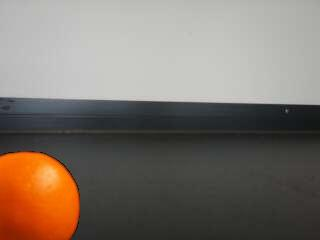Orange: (0, 149, 80, 239)
